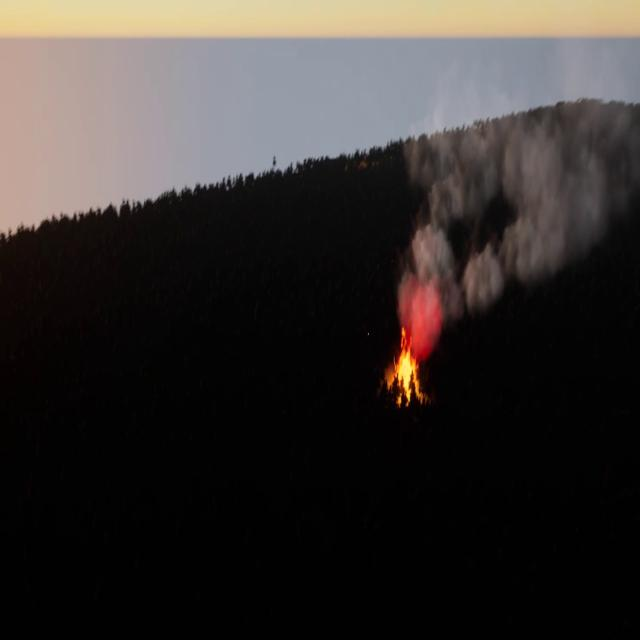fire: (389, 346, 424, 404)
smoke: (399, 56, 639, 351)
